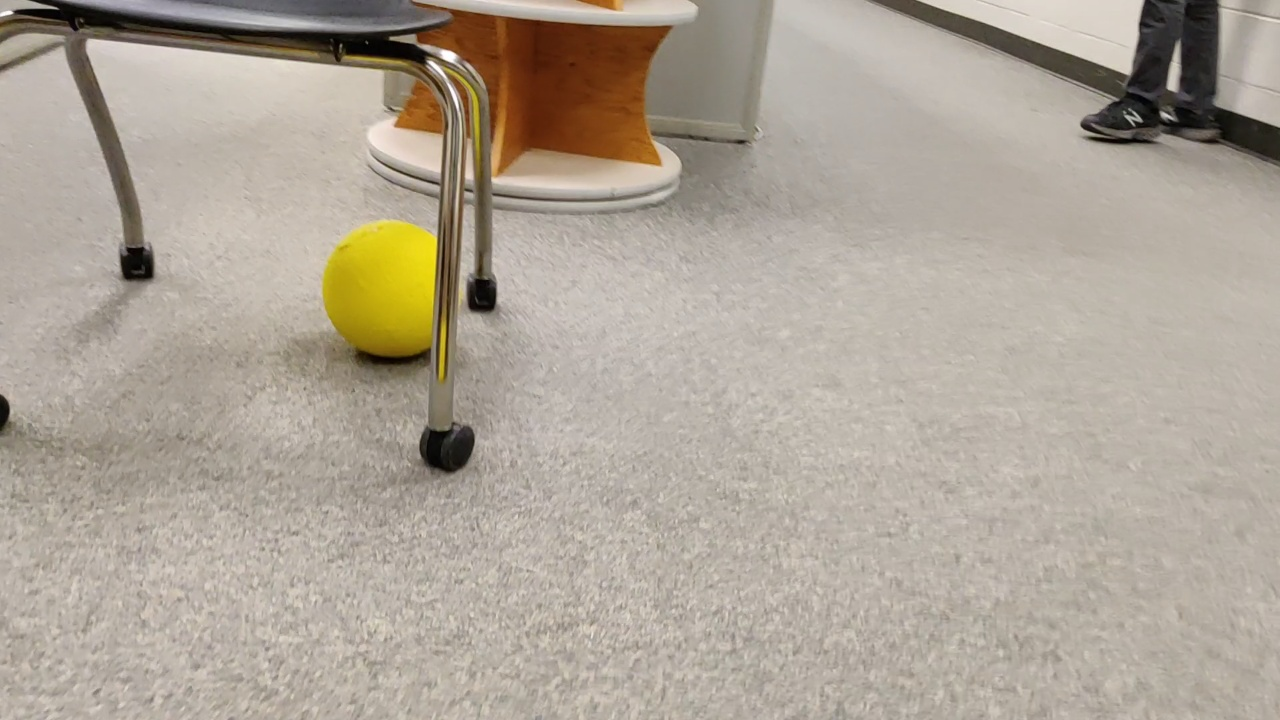Ball: (318, 221, 460, 359)
